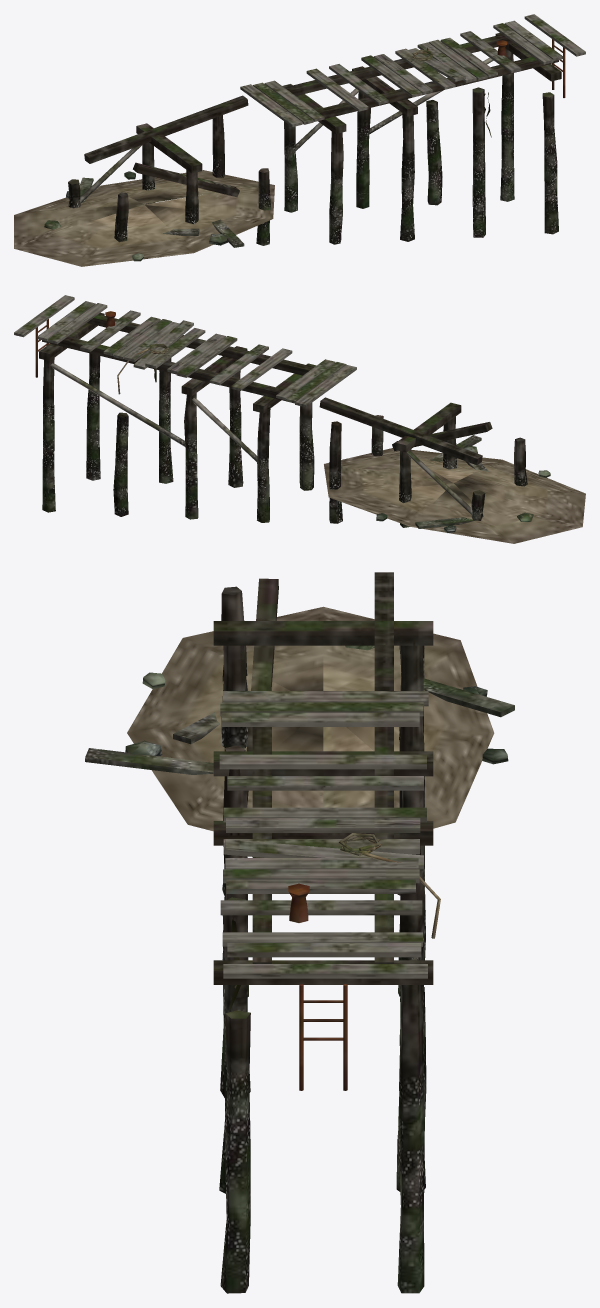
Rendered from kit_wrecked_jetty_live.glb.
3 renders of one model, top to bottom at view 1: azimuth 30°, elevation 25°; view 2: azimuth 150°, elevation 25°; view 3: azimuth 270°, elevation 25°, orthographic. The views are drawn at different scales.
Parts seen in each view (by area): view 1: body, plank_01, plank_04, plank_13, plank_06, plank_16, plank_08, plank_05, plank_14, plank_03, plank_07, plank_15 (+6 smaller); view 2: body, plank_01, plank_04, plank_06, plank_13, plank_08, plank_16, plank_05, plank_14, plank_09, plank_03, plank_07 (+6 smaller); view 3: body, plank_04, plank_16, plank_13, plank_03, plank_05, plank_07, plank_15, plank_12, plank_01, plank_10, plank_06 (+7 smaller).
Part boxes in pixels (bbox=[...]): body: bbox=[14, 33, 565, 266]; plank_01: bbox=[240, 84, 302, 126]; plank_04: bbox=[306, 68, 368, 111]; plank_13: bbox=[460, 31, 521, 73]; plank_06: bbox=[361, 55, 422, 97]; plank_16: bbox=[524, 14, 585, 56]; plank_08: bbox=[395, 48, 455, 89]; plank_05: bbox=[329, 64, 388, 104]; plank_14: bbox=[493, 23, 553, 64]; plank_03: bbox=[264, 80, 324, 121]; plank_07: bbox=[373, 54, 432, 94]; plank_15: bbox=[504, 20, 563, 61]; body: bbox=[35, 313, 585, 543]; plank_01: bbox=[295, 364, 356, 407]; plank_04: bbox=[230, 348, 292, 390]; plank_06: bbox=[176, 336, 237, 377]; plank_13: bbox=[80, 310, 140, 351]; plank_08: bbox=[145, 328, 205, 368]; plank_16: bbox=[14, 295, 74, 337]; plank_05: bbox=[209, 344, 268, 385]; plank_14: bbox=[47, 303, 107, 344]; plank_09: bbox=[133, 320, 193, 369]; plank_03: bbox=[276, 359, 335, 400]; plank_07: bbox=[167, 333, 225, 373]; body: bbox=[125, 572, 508, 1293]; plank_04: bbox=[219, 754, 426, 769]; plank_16: bbox=[223, 964, 427, 978]; plank_13: bbox=[220, 900, 422, 915]; plank_03: bbox=[222, 712, 419, 726]; plank_05: bbox=[227, 776, 423, 790]; plank_07: bbox=[226, 818, 420, 832]; plank_15: bbox=[227, 943, 421, 957]; plank_12: bbox=[226, 879, 415, 893]; plank_01: bbox=[223, 691, 428, 706]; plank_10: bbox=[225, 858, 418, 869]; plank_06: bbox=[223, 807, 426, 822].
Size of what is drawn, in the model's own units: 10.27 by 3.32 by 3.52.
Materials: 2 (2 with a texture image).
